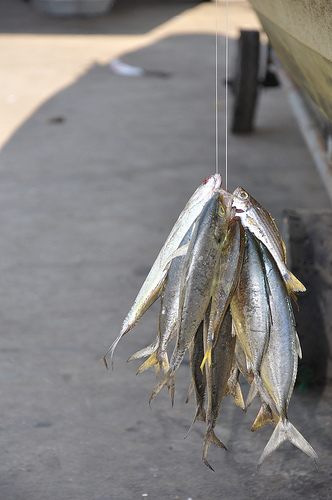fish: (230, 184, 306, 297)
